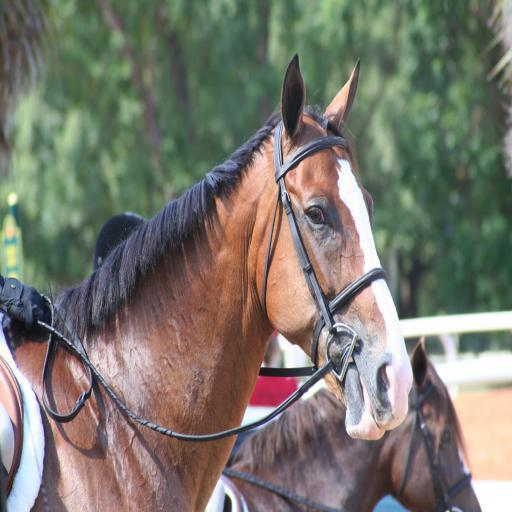horse: (0, 55, 415, 511), (203, 332, 482, 512)
